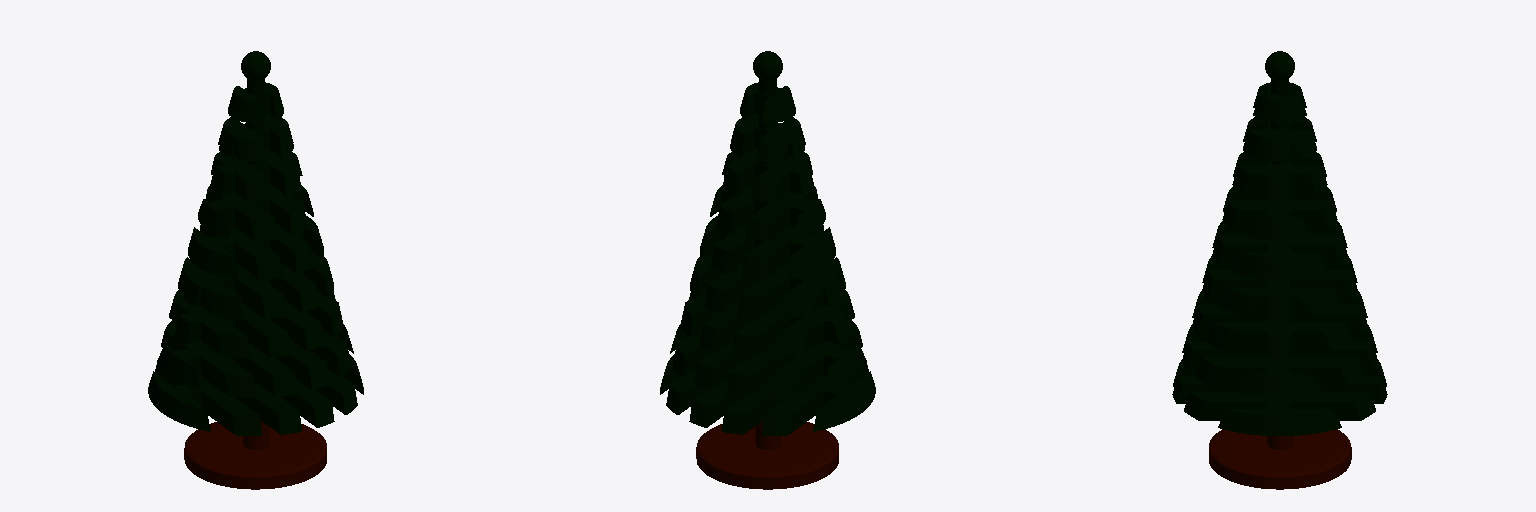
File: arvore_2.obj
The picture shows the model from 3 angles: view 1: azimuth 30°, elevation 25°; view 2: azimuth 150°, elevation 25°; view 3: azimuth 270°, elevation 25°; orthographic projection.
Parts seen in each view (by area): view 1: Lego_Tree_9, Lego_Tree_8, Lego_Tree_Base, Lego_Tree_7, Lego_Tree_6, Lego_Tree_5, Lego_Tree_4, Lego_Tree_3, Lego_Tree_2, Lego_Tree_1, Lego_Tree_Top; view 2: Lego_Tree_9, Lego_Tree_8, Lego_Tree_Base, Lego_Tree_7, Lego_Tree_6, Lego_Tree_5, Lego_Tree_4, Lego_Tree_3, Lego_Tree_2, Lego_Tree_1, Lego_Tree_Top; view 3: Lego_Tree_9, Lego_Tree_8, Lego_Tree_Base, Lego_Tree_7, Lego_Tree_6, Lego_Tree_5, Lego_Tree_4, Lego_Tree_3, Lego_Tree_2, Lego_Tree_1, Lego_Tree_Top.
Part boxes in pixels (bbox=[...]): Lego_Tree_9: bbox=[148, 354, 363, 435]; Lego_Tree_8: bbox=[158, 320, 353, 397]; Lego_Tree_Base: bbox=[184, 420, 326, 489]; Lego_Tree_7: bbox=[169, 290, 343, 358]; Lego_Tree_6: bbox=[178, 251, 333, 318]; Lego_Tree_5: bbox=[188, 216, 323, 279]; Lego_Tree_4: bbox=[198, 184, 313, 240]; Lego_Tree_3: bbox=[210, 148, 302, 200]; Lego_Tree_2: bbox=[218, 114, 293, 161]; Lego_Tree_1: bbox=[228, 79, 283, 122]; Lego_Tree_Top: bbox=[241, 51, 270, 80]; Lego_Tree_9: bbox=[660, 354, 875, 435]; Lego_Tree_8: bbox=[670, 320, 865, 397]; Lego_Tree_Base: bbox=[696, 420, 838, 489]; Lego_Tree_7: bbox=[680, 290, 854, 358]; Lego_Tree_6: bbox=[690, 251, 845, 318]; Lego_Tree_5: bbox=[700, 216, 835, 279]; Lego_Tree_4: bbox=[710, 184, 825, 240]; Lego_Tree_3: bbox=[722, 148, 814, 200]; Lego_Tree_2: bbox=[730, 113, 805, 161]; Lego_Tree_1: bbox=[740, 79, 795, 122]; Lego_Tree_Top: bbox=[753, 51, 782, 80]; Lego_Tree_9: bbox=[1172, 360, 1387, 435]; Lego_Tree_8: bbox=[1182, 325, 1377, 397]; Lego_Tree_Base: bbox=[1209, 429, 1351, 489]; Lego_Tree_7: bbox=[1192, 291, 1367, 358]; Lego_Tree_6: bbox=[1202, 256, 1357, 318]; Lego_Tree_5: bbox=[1212, 221, 1347, 279]; Lego_Tree_4: bbox=[1222, 187, 1337, 240]; Lego_Tree_3: bbox=[1232, 152, 1327, 200]; Lego_Tree_2: bbox=[1243, 117, 1316, 161]; Lego_Tree_1: bbox=[1253, 79, 1306, 122]; Lego_Tree_Top: bbox=[1265, 51, 1294, 80].
Size of the model in its own units: 187 by 389 by 186.